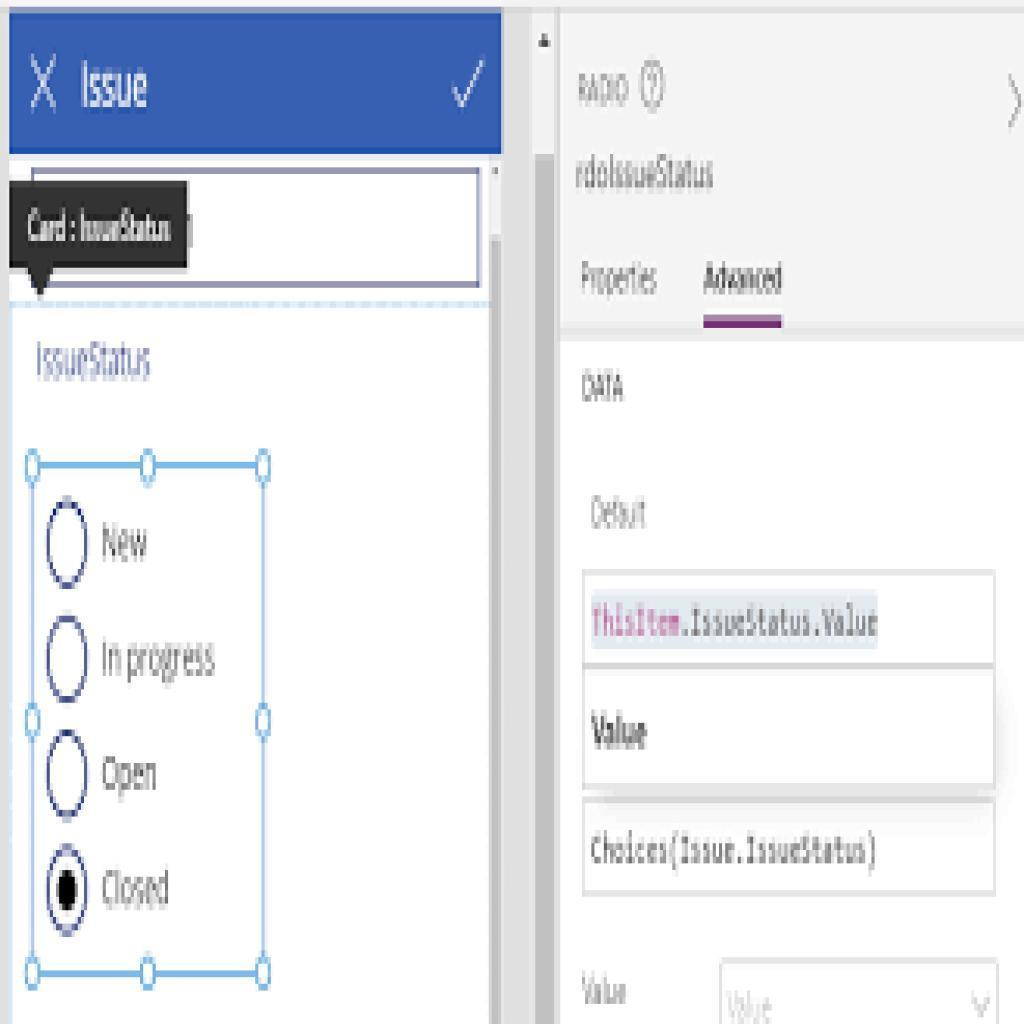dropdown: (720, 961, 999, 1024)
icon: (452, 58, 487, 112), (31, 55, 58, 114)
input: (585, 665, 994, 785), (585, 570, 994, 666), (584, 801, 996, 895)
label: (697, 258, 792, 306), (577, 257, 663, 305), (81, 61, 154, 111), (578, 967, 648, 1009), (590, 495, 649, 538)
radio: (46, 727, 92, 826), (45, 613, 92, 707), (45, 843, 91, 939), (46, 494, 91, 590)
